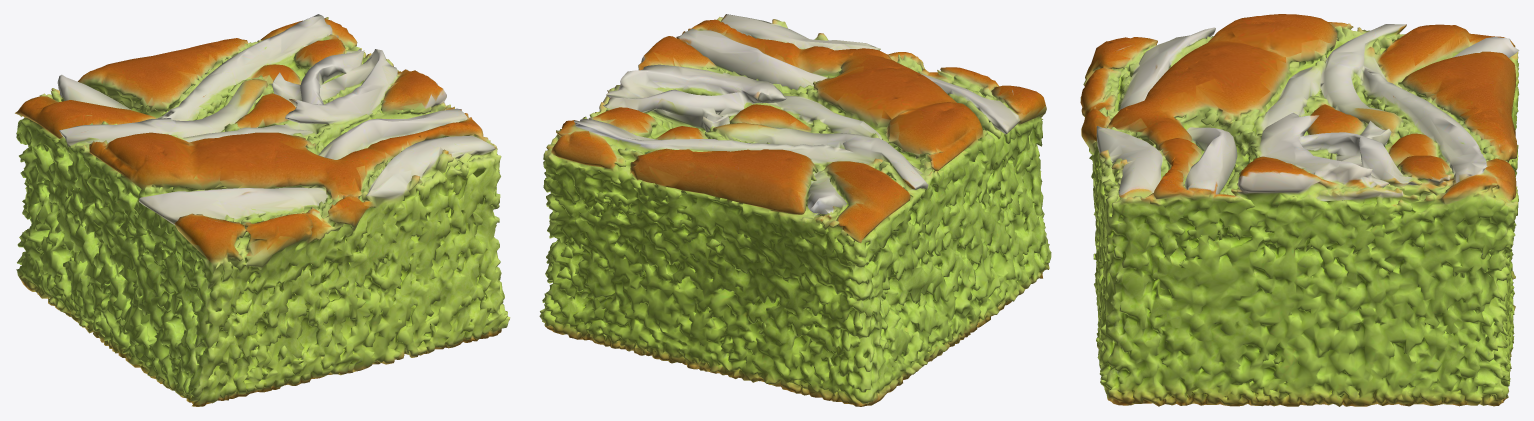
The model's file is pandan.glb.
3 renders of one model, left to right at view 1: azimuth 30°, elevation 25°; view 2: azimuth 150°, elevation 25°; view 3: azimuth 270°, elevation 25°, orthographic. The views are drawn at different scales.
Parts seen in each view (by area): view 1: garlic; view 2: garlic; view 3: garlic.
Boxes of the visible parts, x1,y1,x2,y2 form: garlic: (15, 14, 510, 406); garlic: (539, 14, 1051, 406); garlic: (1080, 14, 1519, 406).
Size of the model in its own units: 0.9722 by 0.5869 by 1.
Materials: 1 (1 with a texture image).
